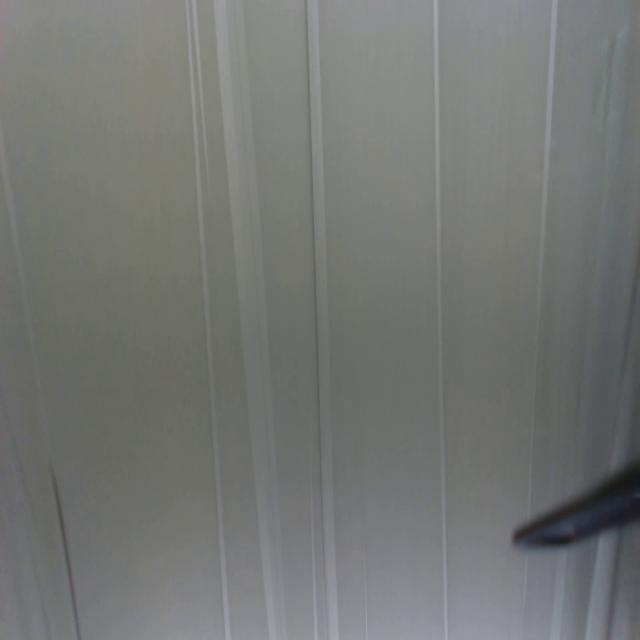crease: (214, 0, 288, 640), (0, 121, 84, 639), (184, 0, 230, 640), (305, 0, 343, 636), (528, 0, 559, 507), (433, 0, 449, 640), (307, 444, 318, 640), (361, 547, 371, 640), (520, 551, 528, 640)
